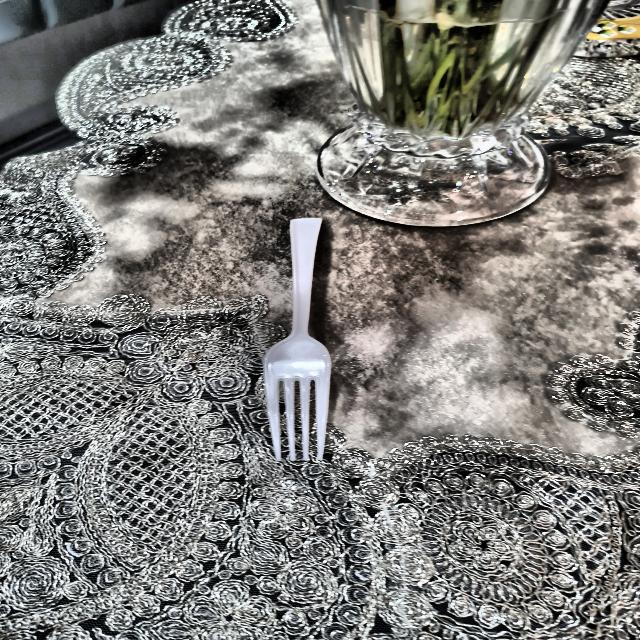plastic utensil: (261, 213, 337, 458)
